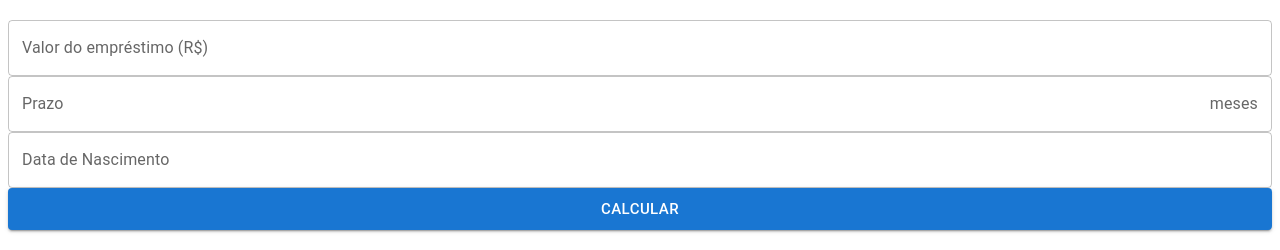
Test: LoanForm › formats loan amount with currency mask
The image size is (1280, 250).
In the field labelled "Valor do empréstimo (R$)": coordinates (640, 48) x1=8 y1=20 x2=1272 y2=76, type "1000000"
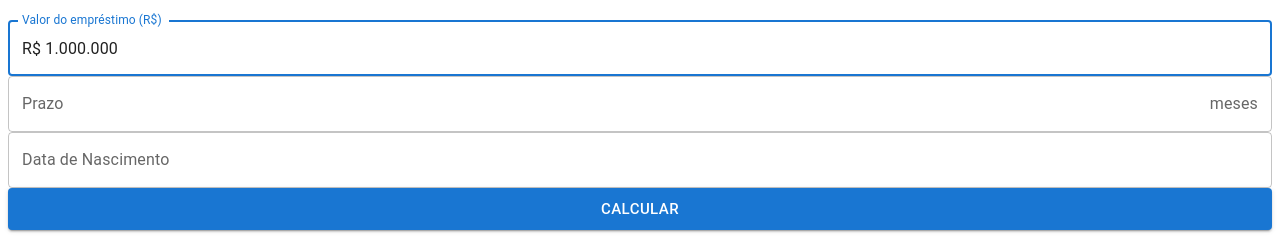
Now the field labelled "Valor do empréstimo (R$)" holds "R$ 1.000.000", box x1=8 y1=20 x2=1272 y2=76
